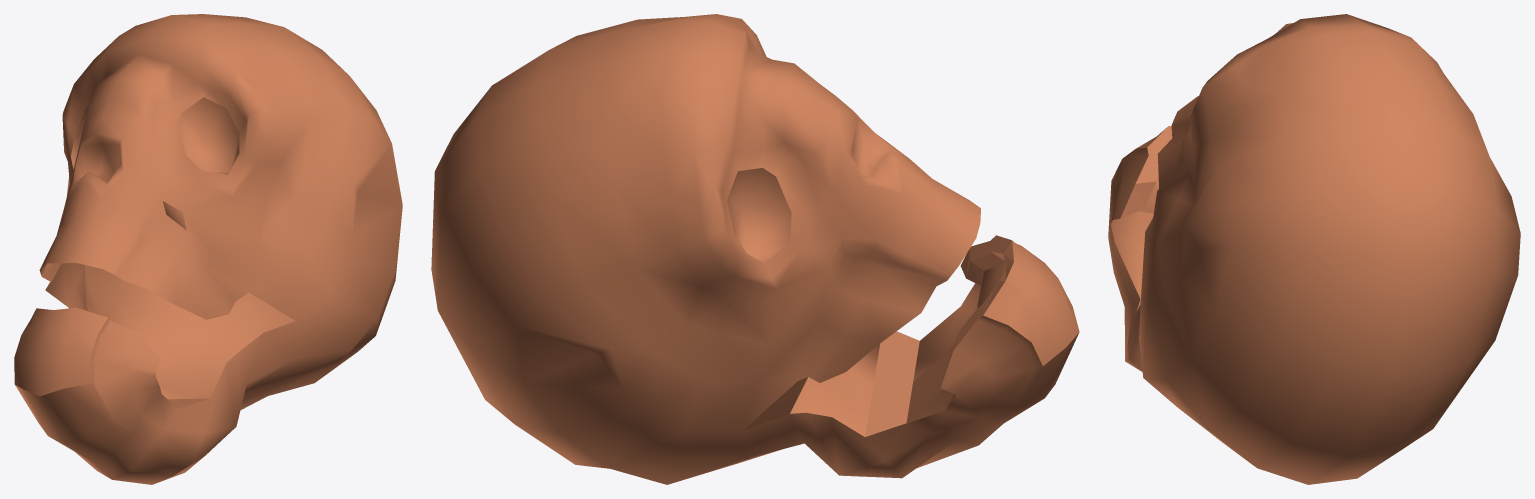
Rendered from skallemesh.FBX.
3 views of the same model, side by side, from view 1: azimuth 30°, elevation 25°; view 2: azimuth 150°, elevation 25°; view 3: azimuth 270°, elevation 25° (orthographic). The views are drawn at different scales.
Visible parts, largest first — view 1: skalle; view 2: skalle; view 3: skalle.
Boxes of the visible parts, x1,y1,x2,y2 form: skalle: (14, 14, 402, 484); skalle: (431, 14, 1079, 484); skalle: (1108, 14, 1520, 484).
Bounding box in the file's own units: 1.77 × 1.5 × 1.32.
